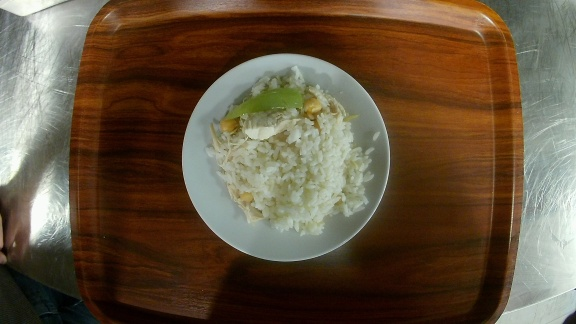nohutlupilav: (182, 54, 391, 263)
